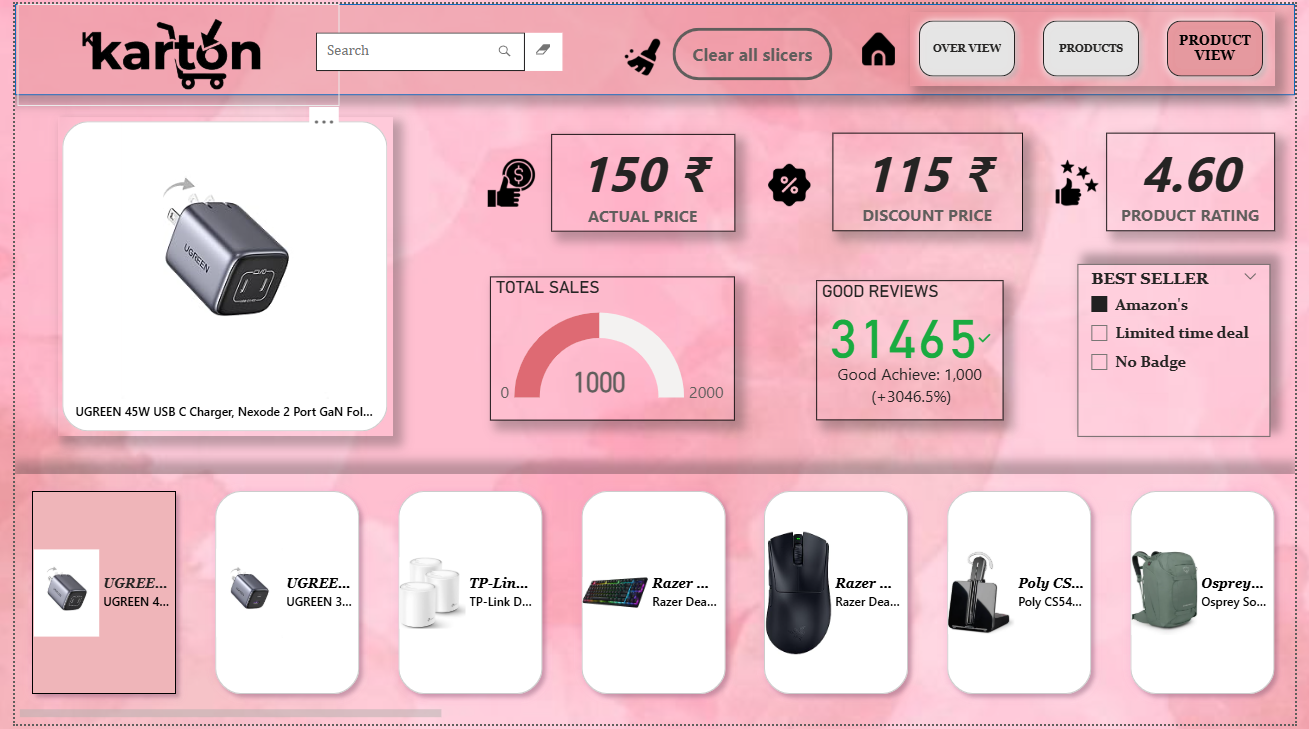

What the dashboard file says about the page in this screenshot:
{"tool":"powerbi","page":{"name":"PRODUCT VIEW","canvas":[1280,720],"ordinal":2},"visuals":[{"type":"advancedSlicerVisual","fields":{"Values":["amazon_products_sales_data_cleaned.product_title"]},"box":[42.8,112.5,335.1,320.4],"z":0},{"type":"shape","box":[0,0,1280,91.2],"z":1000},{"type":"pageNavigator","box":[895.1,7.3,364.4,74.6],"z":2000},{"type":"actionButton","box":[657.5,23.8,160,52.5],"z":3000},{"type":"image","box":[3,0,321.6,102.7],"z":4000},{"type":"image","box":[817.5,23.8,92.5,42.5],"z":5000},{"type":"image","box":[601.2,23.8,55,60],"z":6000},{"type":"advancedSlicerVisual","fields":{"Values":["amazon_products_sales_data_cleaned.product_title"]},"box":[0,470,1280,250],"z":7000},{"type":"card","fields":{"Values":["Sum(amazon_products_sales_data_cleaned.original_price)","select"]},"box":[536.2,130,183.8,97.5],"z":8000},{"type":"card","fields":{"Values":["Sum(amazon_products_sales_data_cleaned.discount percentage)"]},"box":[817.5,128.8,190,98.8],"z":9000},{"type":"card","fields":{"Values":["Avg(amazon_products_sales_data_cleaned.product_rating)"]},"box":[1091.2,128.8,168.8,98.8],"z":10000},{"type":"image","box":[1032.5,150,58.8,57.5],"z":11000},{"type":"image","box":[467.5,150,57.5,57.5],"z":12000},{"type":"image","box":[747.5,155,53.8,52.5],"z":13000},{"type":"slicer","fields":{"Values":["amazon_products_sales_data_cleaned.is_best_seller"]},"box":[1062.5,260,192.5,172.5],"z":14000},{"type":"textFilter25A4896A83E0487089E2B90C9AE57C8A","fields":{"field":["amazon_products_sales_data_cleaned.product_title"]},"box":[296.2,23.8,256.2,82.5],"z":15000},{"type":"kpi","title":"GOOD REVIEWS","fields":{"Indicator":["Sum(amazon_products_sales_data_cleaned.total_reviews)"],"Goal":["Sum(amazon_products_sales_data_cleaned.purchased_last_month)"],"TrendLine":["amazon_products_sales_data_cleaned.product_category"]},"box":[801.2,276.2,187.5,140],"z":15001},{"type":"gauge","title":"TOTAL SALES","fields":{"Y":["Sum(amazon_products_sales_data_cleaned.purchased_last_month)"]},"box":[475,272.5,245,143.8],"z":15002}]}

Visuals, with their boxes in screenshot pixels (x1, y1, x2, y2), scaled from the page's 1280x720 canvas onto the 1309x729 screenshot:
advancedSlicerVisual - amazon_products_sales_data_cleaned.product_title: 44 114 386 438
shape: 0 0 1308 92
pageNavigator: 915 7 1288 83
actionButton: 672 24 836 77
image: 3 0 332 104
image: 836 24 931 67
image: 615 24 671 85
advancedSlicerVisual - amazon_products_sales_data_cleaned.product_title: 0 476 1308 728
card - Sum(amazon_products_sales_data_cleaned.original_price) x select: 548 132 736 230
card - Sum(amazon_products_sales_data_cleaned.discount percentage): 836 130 1030 230
card - Avg(amazon_products_sales_data_cleaned.product_rating): 1116 130 1289 230
image: 1056 152 1116 210
image: 478 152 537 210
image: 764 157 819 210
slicer - amazon_products_sales_data_cleaned.is_best_seller: 1087 263 1283 438
textFilter25A4896A83E0487089E2B90C9AE57C8A - amazon_products_sales_data_cleaned.product_title: 303 24 565 108
"GOOD REVIEWS" kpi: 819 280 1011 421
"TOTAL SALES" gauge: 486 276 736 422
